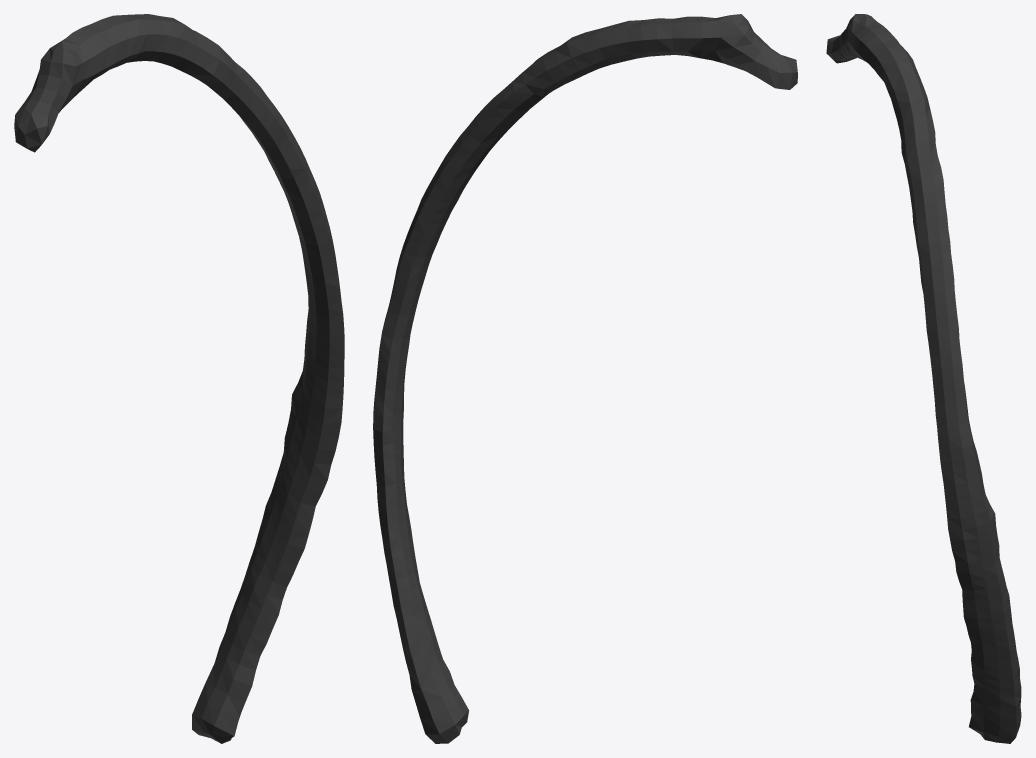
The model's file is Rib_7.glb.
The picture shows the model from 3 angles, left to right: view 1: azimuth 30°, elevation 25°; view 2: azimuth 150°, elevation 25°; view 3: azimuth 270°, elevation 25°; orthographic projection. The views are drawn at different scales.
Visible parts, largest first — view 1: Rib_7; view 2: Rib_7; view 3: Rib_7.
Boxes of the visible parts, x1,y1,x2,y2 form: Rib_7: (14, 14, 344, 743); Rib_7: (373, 14, 797, 743); Rib_7: (826, 14, 1021, 743).
Size of the model in its own units: 4.45 by 8.83 by 2.45.
1 material, 1 textured.
